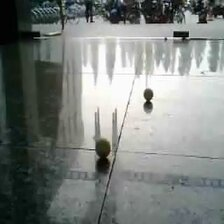w: (95, 138, 112, 158), (143, 88, 154, 102)
